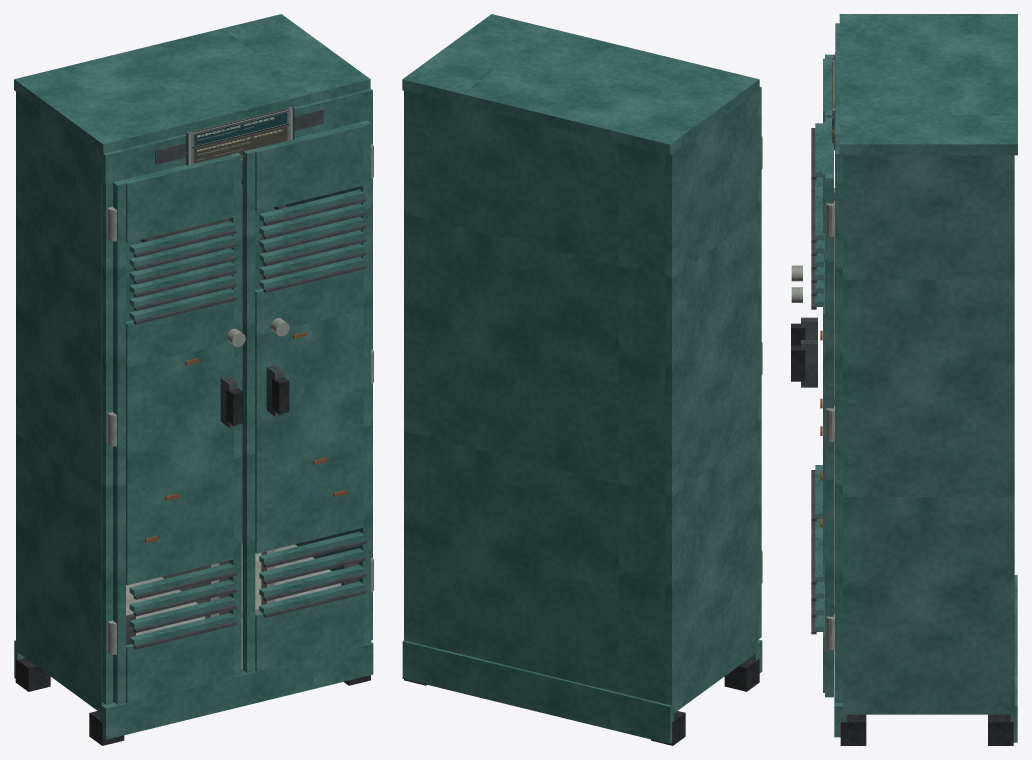
The model's file is PZ_Industrial_DualDoor_Locker_Standalone.glb.
The picture shows the model from 3 angles, left to right: view 1: azimuth 30°, elevation 25°; view 2: azimuth 150°, elevation 25°; view 3: azimuth 270°, elevation 25°; orthographic projection.
Parts seen in each view (by area): view 1: Locker_Left_SheetWall_NODE, Locker_Left_Door_Sheet_Middle_NODE, Locker_Right_Door_Sheet_Middle_NODE, Locker_Roof_Stamped_NODE, Locker_Front_Bottom_Kick_NODE, Locker_Right_Door_VerticalFrame_0.404_NODE, Locker_Right_Door_Sheet_Upper_NODE, Locker_Left_Door_Sheet_Upper_NODE, Locker_Left_Door_VerticalFrame_0.014_NODE, Locker_Right_Door_Sheet_Lower_NODE, Locker_Left_Door_Sheet_Lower_NODE, Locker_Left_Front_Jamb_NODE (+33 smaller); view 2: Locker_Rear_SheetWall_NODE, Locker_Left_SheetWall_NODE, Locker_Roof_Stamped_NODE, Locker_Rear_Base_Apron_NODE, Locker_Right_SheetWall_NODE, Locker_Left_Front_Jamb_NODE, Locker_BaseFoot_-0.415_-0.22_NODE; view 3: Locker_Right_SheetWall_NODE, Locker_Roof_Stamped_NODE, Locker_Right_Front_Jamb_NODE, Locker_Right_Door_VerticalFrame_0.014_NODE, Locker_Front_Top_Header_NODE, Locker_BaseFoot_+0.415_-0.22_NODE, Locker_BaseFoot_+0.415_+0.21_NODE, Locker_Rear_Base_Apron_NODE, Locker_Right_Vertical_Handle_NODE, Locker_Right_Door_Sheet_Middle_NODE, Locker_Right_Handle_Grip_NODE, Locker_Right_High_Louvre_06_NODE (+4 smaller).
Part boxes in pixels (x1=…): Locker_Left_SheetWall_NODE: x1=16, y1=92, x2=104, y2=713; Locker_Left_Door_Sheet_Middle_NODE: x1=126, y1=301, x2=233, y2=585; Locker_Right_Door_Sheet_Middle_NODE: x1=255, y1=269, x2=363, y2=553; Locker_Roof_Stamped_NODE: x1=14, y1=14, x2=370, y2=154; Locker_Front_Bottom_Kick_NODE: x1=100, y1=642, x2=373, y2=739; Locker_Right_Door_VerticalFrame_0.404_NODE: x1=242, y1=149, x2=255, y2=672; Locker_Right_Door_Sheet_Upper_NODE: x1=254, y1=125, x2=363, y2=211; Locker_Left_Door_Sheet_Upper_NODE: x1=125, y1=156, x2=233, y2=243; Locker_Left_Door_VerticalFrame_0.014_NODE: x1=113, y1=180, x2=125, y2=704; Locker_Right_Door_Sheet_Lower_NODE: x1=255, y1=594, x2=363, y2=671; Locker_Left_Door_Sheet_Lower_NODE: x1=126, y1=626, x2=233, y2=703; Locker_Left_Front_Jamb_NODE: x1=102, y1=182, x2=114, y2=704; Locker_Rear_SheetWall_NODE: x1=410, y1=92, x2=665, y2=703; Locker_Left_SheetWall_NODE: x1=665, y1=92, x2=757, y2=713; Locker_Roof_Stamped_NODE: x1=402, y1=14, x2=759, y2=155; Locker_Rear_Base_Apron_NODE: x1=402, y1=640, x2=673, y2=743; Locker_Right_SheetWall_NODE: x1=404, y1=90, x2=410, y2=641; Locker_Left_Front_Jamb_NODE: x1=757, y1=117, x2=761, y2=639; Locker_BaseFoot_-0.415_-0.22_NODE: x1=724, y1=658, x2=759, y2=691; Locker_Right_SheetWall_NODE: x1=843, y1=155, x2=1014, y2=714; Locker_Roof_Stamped_NODE: x1=839, y1=14, x2=1017, y2=155; Locker_Right_Front_Jamb_NODE: x1=835, y1=177, x2=842, y2=702; Locker_Right_Door_VerticalFrame_0.014_NODE: x1=825, y1=174, x2=833, y2=697; Locker_Front_Top_Header_NODE: x1=835, y1=23, x2=846, y2=183; Locker_BaseFoot_+0.415_-0.22_NODE: x1=840, y1=714, x2=866, y2=745; Locker_BaseFoot_+0.415_+0.21_NODE: x1=988, y1=714, x2=1013, y2=745; Locker_Rear_Base_Apron_NODE: x1=1010, y1=575, x2=1017, y2=742; Locker_Right_Vertical_Handle_NODE: x1=801, y1=340, x2=817, y2=387; Locker_Right_Door_Sheet_Middle_NODE: x1=823, y1=262, x2=824, y2=574; Locker_Right_Handle_Grip_NODE: x1=791, y1=345, x2=805, y2=381; Locker_Right_High_Louvre_06_NODE: x1=815, y1=186, x2=824, y2=240.
Size of the model in its own units: 0.904 by 1.93 by 0.662.
6 materials, 6 textured.
